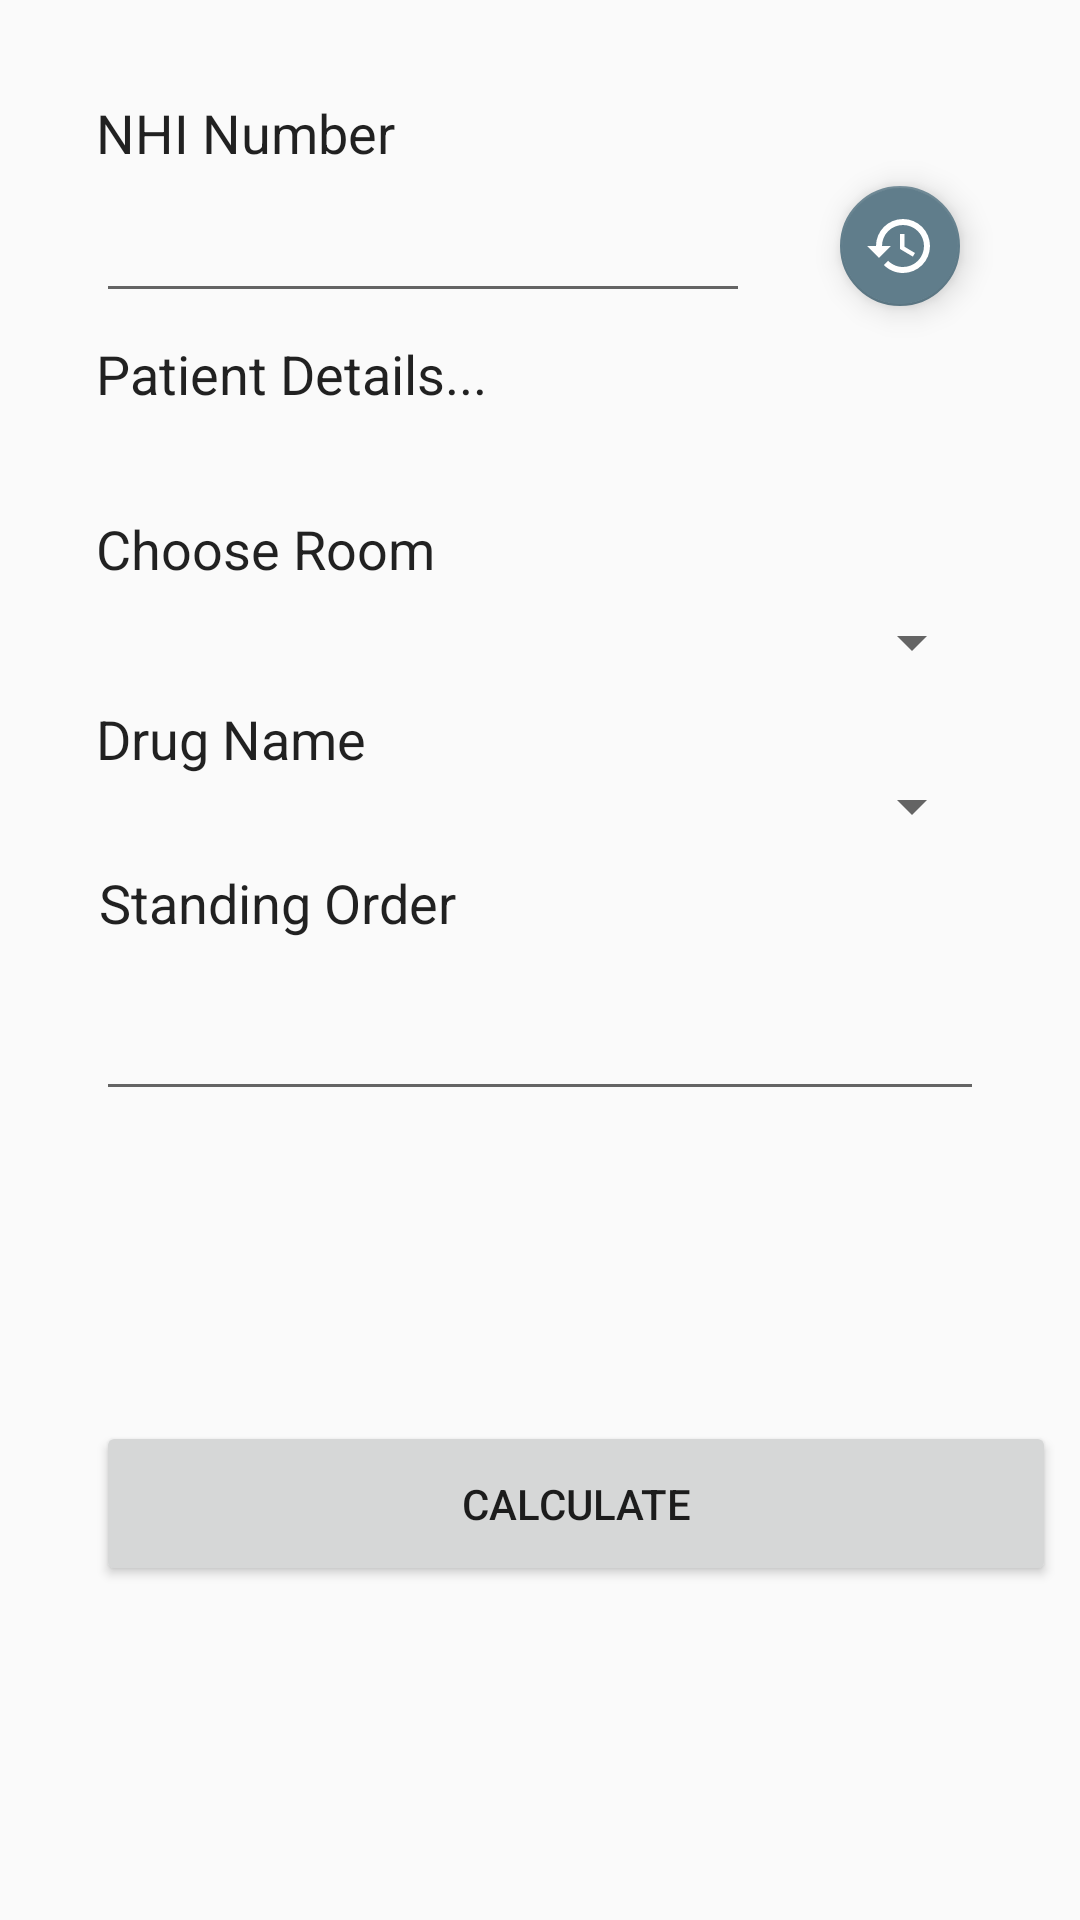

Where icons sit on this 1080x1920 app screen, as (x1, y1, x2, y2):
update: (840, 186, 960, 306)
